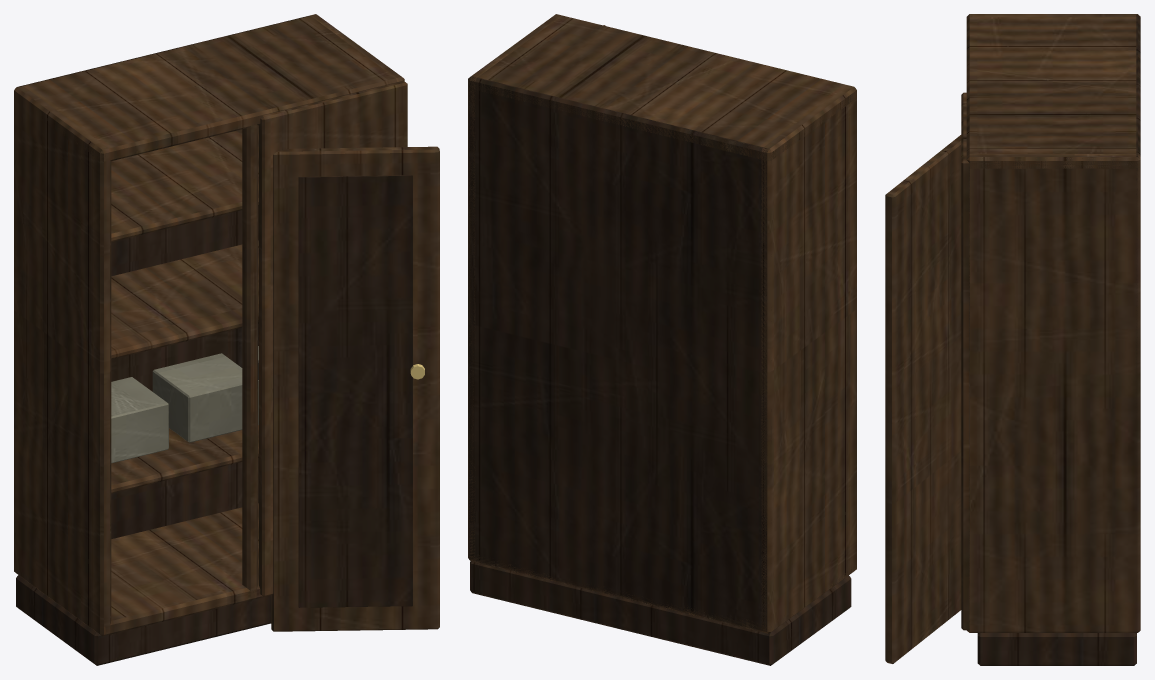
File: cabinet_wood.glb
3 views of the same model, side by side, from view 1: azimuth 30°, elevation 25°; view 2: azimuth 150°, elevation 25°; view 3: azimuth 270°, elevation 25° (orthographic). The views are drawn at different scales.
Visible parts, largest first — view 1: body, door; view 2: body; view 3: body, door.
Part boxes in pixels (bbox=[...]): body: bbox=[14, 14, 407, 665]; door: bbox=[271, 146, 439, 631]; body: bbox=[468, 14, 856, 665]; body: bbox=[961, 14, 1140, 665]; door: bbox=[885, 135, 961, 663].
Bounding box in the file's own units: 0.95 × 1.55 × 0.7046.
Materials: 4 (3 with a texture image).
